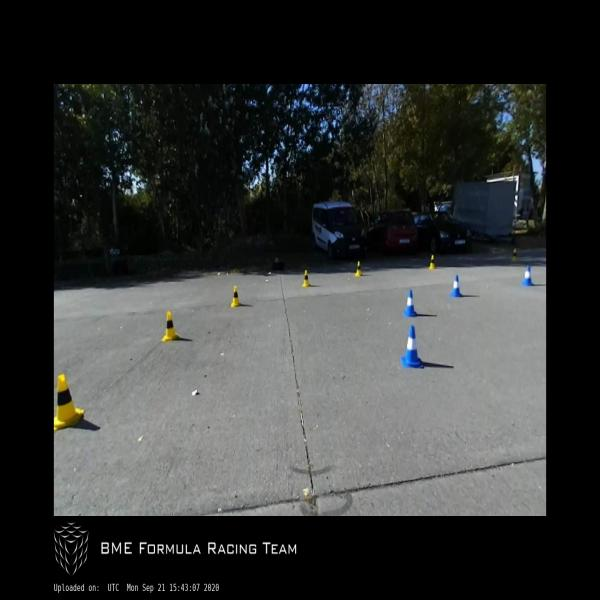blue_cone: (402, 326, 423, 368), (403, 290, 417, 317), (450, 275, 462, 297), (522, 266, 533, 286)
yellow_cone: (54, 374, 84, 432), (162, 312, 179, 342), (231, 286, 240, 307), (302, 270, 311, 286), (356, 262, 363, 276), (429, 255, 435, 269), (512, 249, 517, 262)
